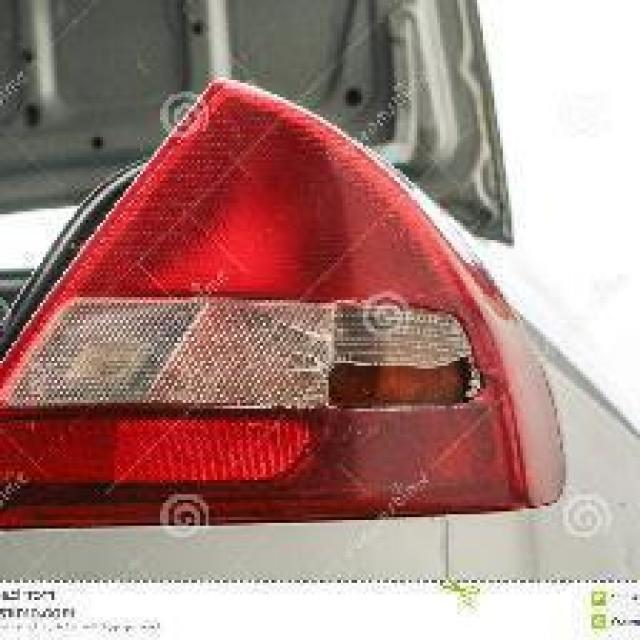damaged: (288, 294, 508, 423)
